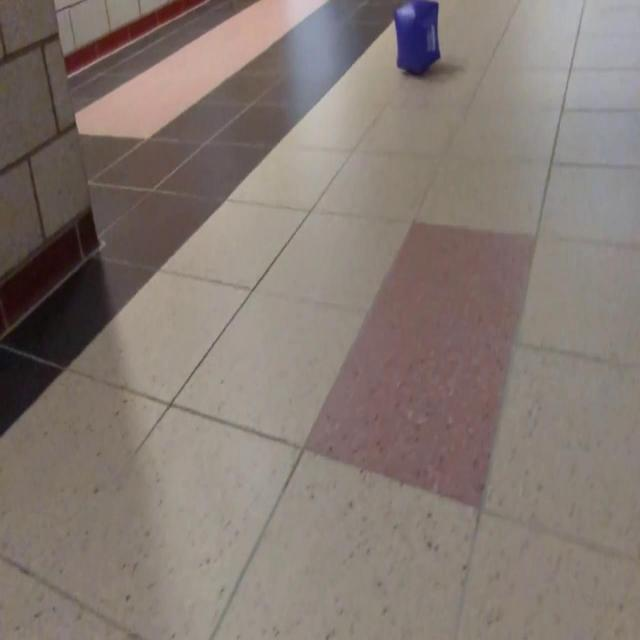frc_cube: (395, 0, 440, 76)
